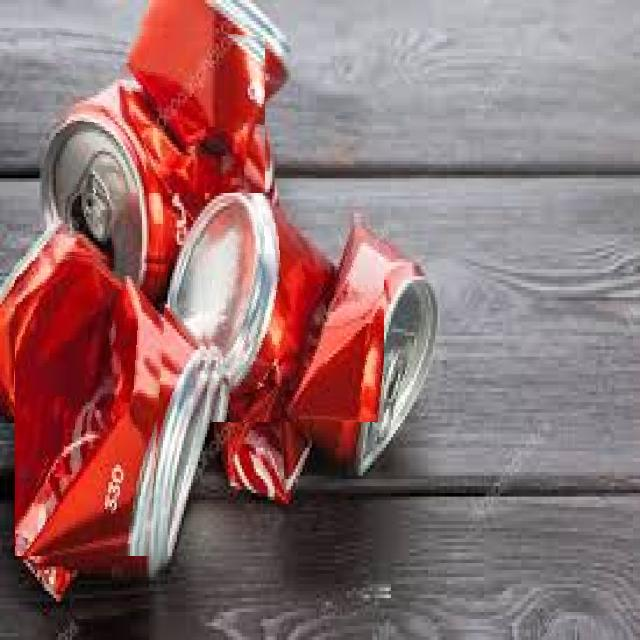Cans: (15, 251, 168, 556), (196, 213, 384, 422), (56, 17, 265, 193)
